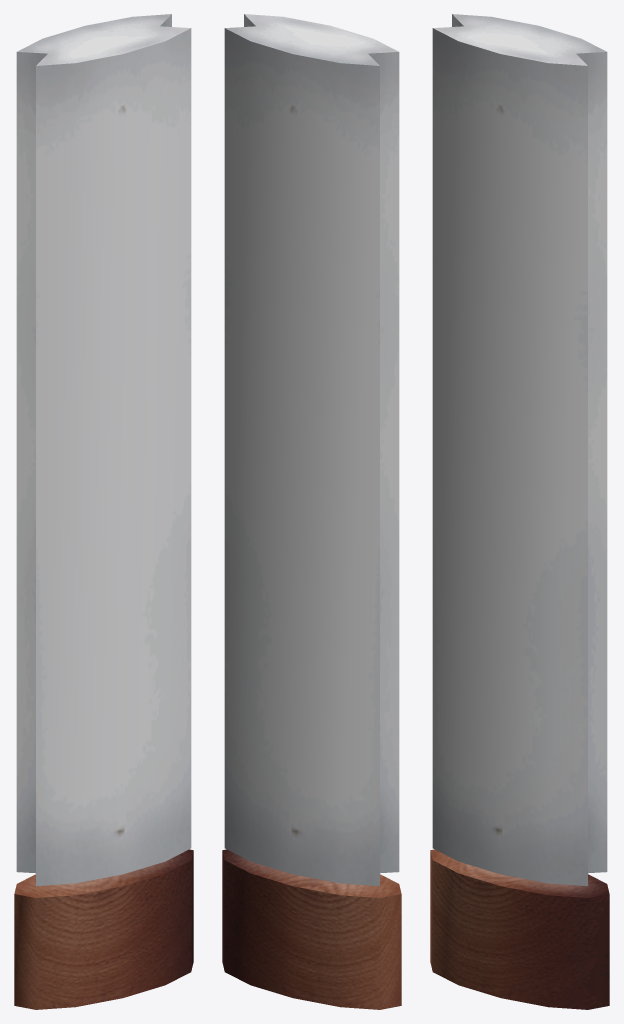
File: Lamp5.fbx
3 renders of one model, left to right at view 1: azimuth 30°, elevation 25°; view 2: azimuth 150°, elevation 25°; view 3: azimuth 330°, elevation 25°, orthographic.
Parts seen in each view (by area): view 1: Empty_Mesh; view 2: Empty_Mesh; view 3: Empty_Mesh.
Boxes of the visible parts, <box> form: Empty_Mesh: <box>14,14,193,1009</box>; Empty_Mesh: <box>222,14,401,1009</box>; Empty_Mesh: <box>430,14,609,1009</box>.
Bounding box in the file's own units: 16.87 × 84.92 × 6.29.
